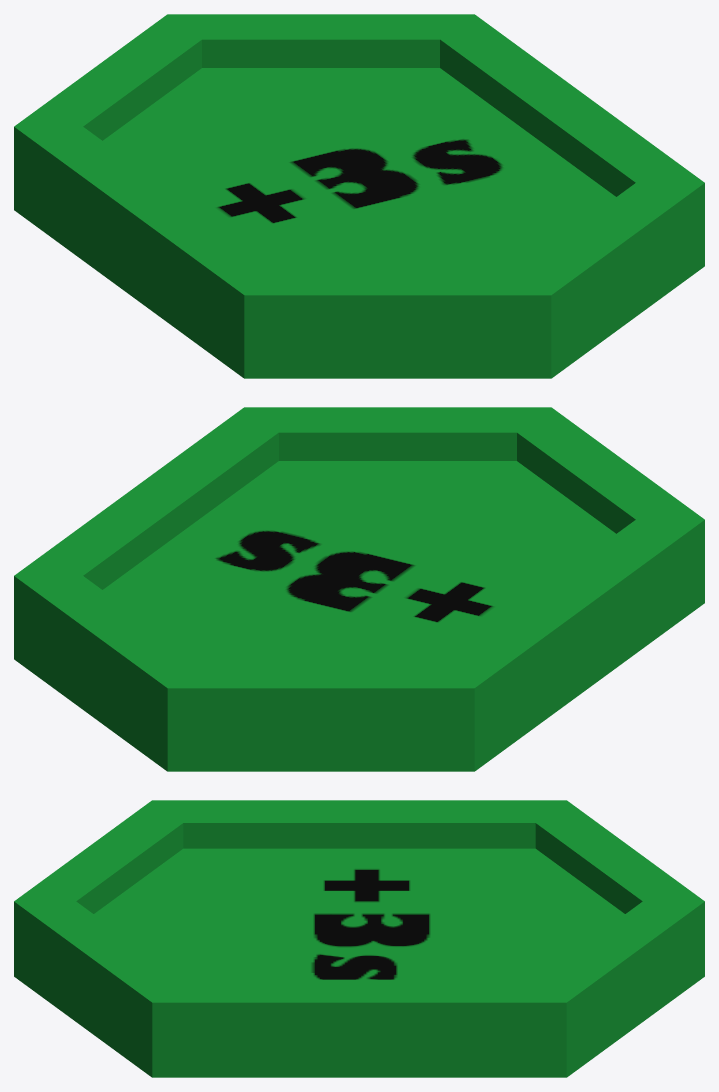
File: time_piece_3s.fbx
3 renders of one model, top to bottom at view 1: azimuth 30°, elevation 25°; view 2: azimuth 150°, elevation 25°; view 3: azimuth 270°, elevation 25°, orthographic. The views are drawn at different scales.
Visible parts, largest first — view 1: Cylinder; view 2: Cylinder; view 3: Cylinder.
Boxes of the visible parts, left/top/right/bottom form: Cylinder: left=14, top=14, right=704, bottom=378; Cylinder: left=14, top=407, right=704, bottom=771; Cylinder: left=14, top=800, right=704, bottom=1077.
Size of the model in its own units: 173 by 30 by 250.
